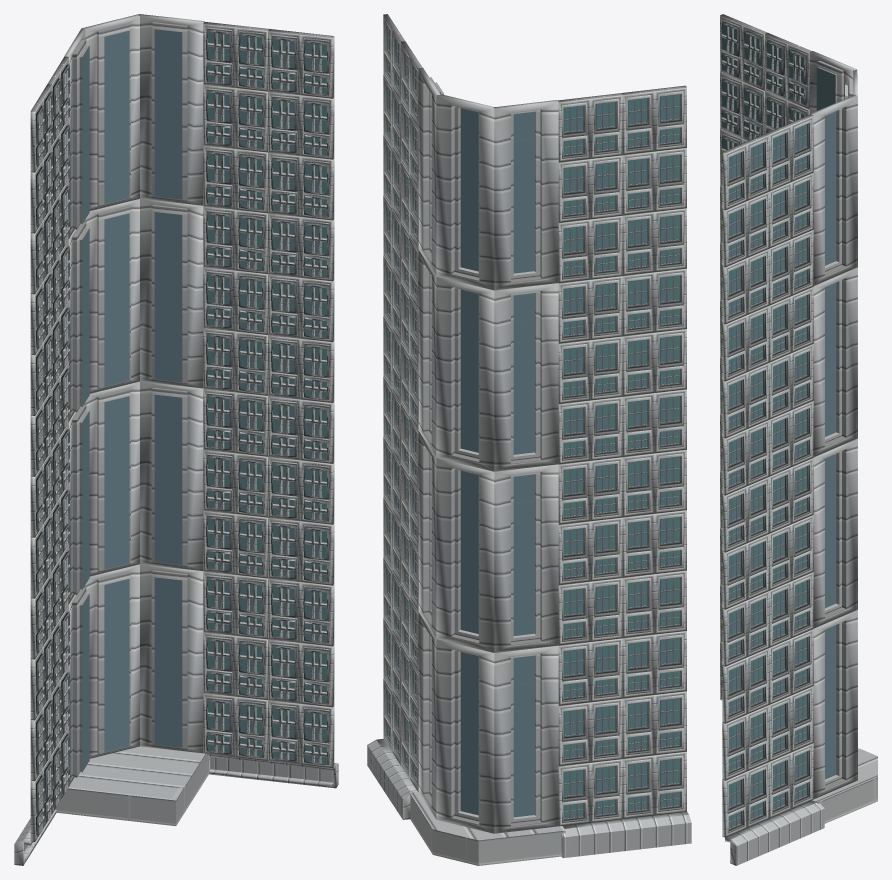
File: TowerTest.fbx
3 renders of one model, left to right at view 1: azimuth 30°, elevation 25°; view 2: azimuth 150°, elevation 25°; view 3: azimuth 270°, elevation 25°, orthographic. The views are drawn at different scales.
Visible parts, largest first — view 1: MegaBuilding01; view 2: MegaBuilding01; view 3: MegaBuilding01.
Boxes of the visible parts, x1,y1,x2,y2 form: MegaBuilding01: (14,14,338,865); MegaBuilding01: (367,14,691,865); MegaBuilding01: (720,14,877,865).
Bounding box in the file's own units: 2462 × 5464 × 1104.
